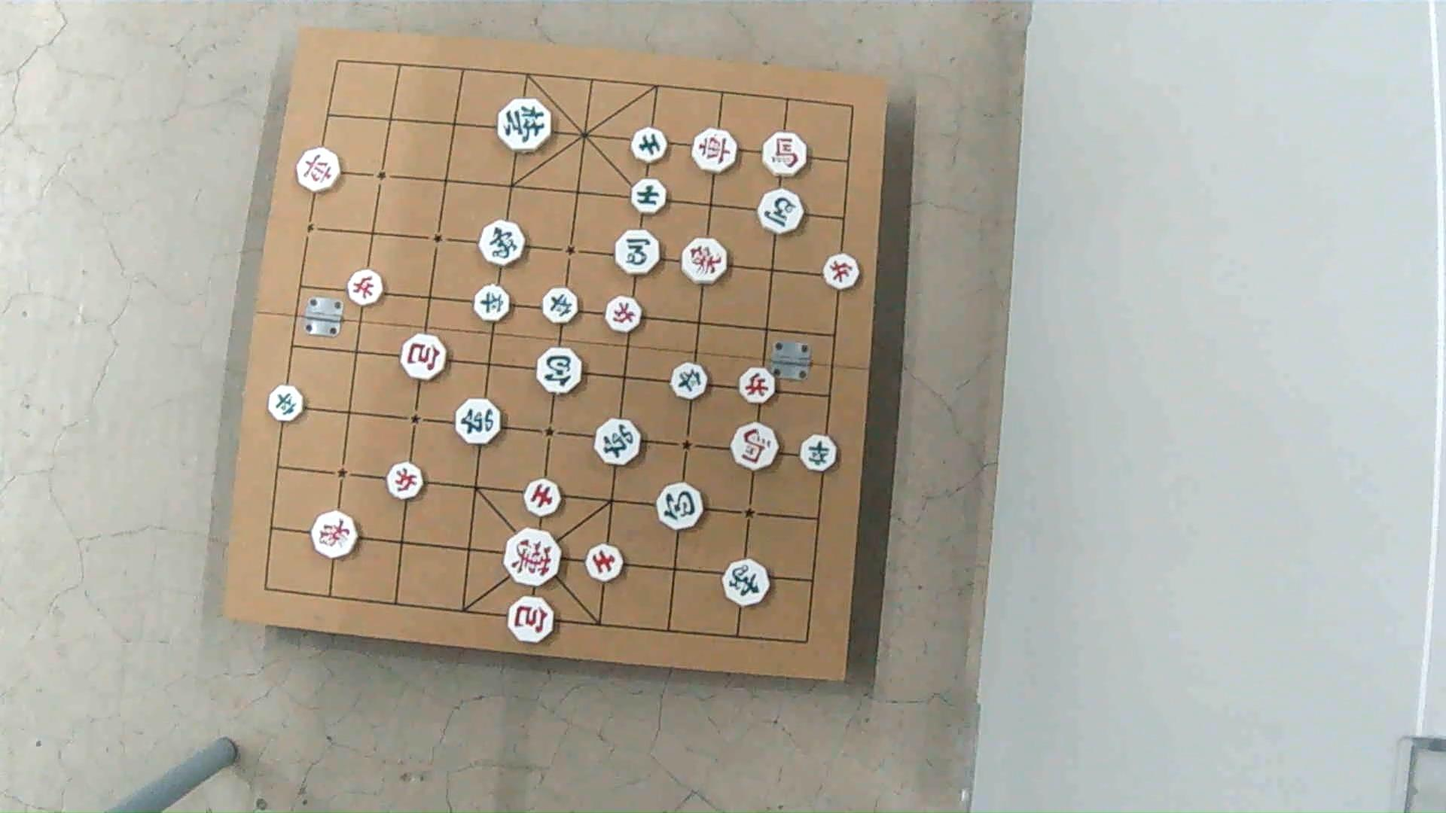cha_green: (455, 397, 502, 444), (596, 419, 643, 465)
cha_red: (691, 128, 737, 172), (297, 147, 340, 191)
jol_green: (799, 435, 836, 471), (542, 288, 578, 324), (670, 362, 706, 398), (473, 286, 510, 321), (270, 386, 305, 422)
jol_red: (387, 463, 423, 500), (346, 270, 382, 306), (822, 254, 857, 291), (608, 296, 643, 332), (739, 367, 774, 403)
ma_green: (757, 188, 804, 234), (617, 230, 662, 274)
ma_red: (731, 425, 777, 471), (762, 131, 807, 175)
po_green: (659, 483, 706, 530), (537, 349, 583, 395)
po_red: (510, 598, 557, 644), (400, 336, 446, 381)
sa_green: (631, 127, 667, 163), (630, 178, 666, 213)
sa_red: (523, 477, 561, 516), (587, 544, 624, 581)
sang_green: (721, 559, 767, 605), (480, 220, 525, 266)
sang_red: (310, 510, 358, 558), (683, 238, 729, 285)
wang_green: (497, 97, 551, 151)
wang_red: (505, 527, 563, 585)
